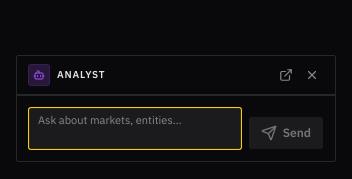
Test: AskAiPanel — SSE streaming › stops streaming on [DONE] sentinel
The width and height of the screenshot is (352, 179).
Type "Question" into the text box with placeholder "Ask about markets, entities…" at (135, 129), box [29,108,241,149]
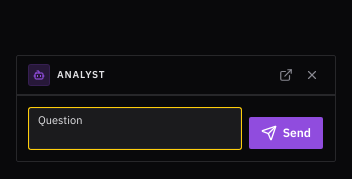
Click the button with aria-label "send message" at (286, 133), box [249,117,323,149]
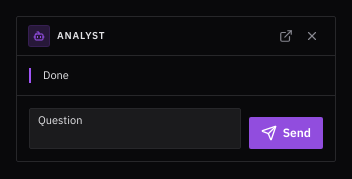
Expected: the text "Done" is shown, [43,68,69,82]
